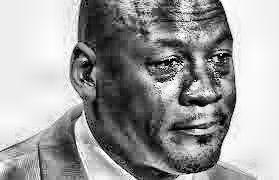sad: (101, 0, 239, 169)
